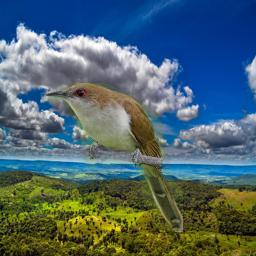Cuckoo: (43, 83, 183, 232)
